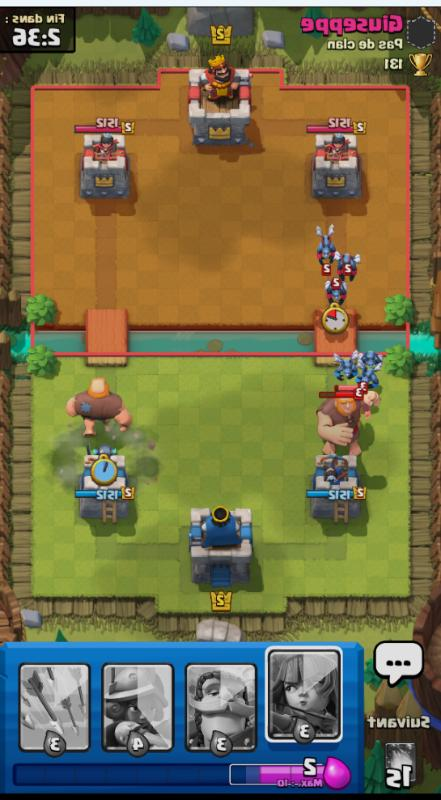gargouille: (305, 226, 347, 267), (327, 353, 366, 382), (320, 275, 350, 312), (335, 250, 363, 282), (354, 364, 388, 389), (356, 346, 386, 372)
geant: (305, 388, 388, 457), (63, 372, 151, 436)
mini_PEKKA: (304, 228, 343, 267)
